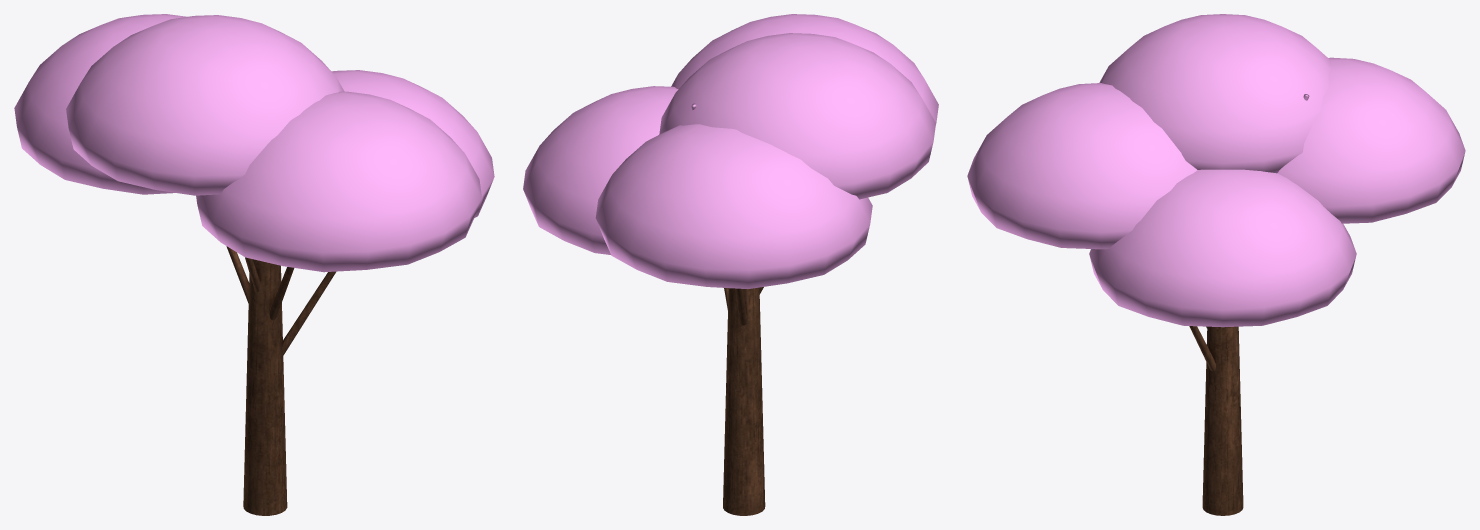
The model's file is basiccherry.glb.
The picture shows the model from 3 angles, left to right: view 1: azimuth 30°, elevation 25°; view 2: azimuth 150°, elevation 25°; view 3: azimuth 270°, elevation 25°; orthographic projection. The views are drawn at different scales.
Visible parts, largest first — view 1: g; view 2: g; view 3: g.
Boxes of the visible parts, x1,y1,x2,y2 form: g: [14, 14, 494, 515]; g: [523, 14, 938, 515]; g: [967, 14, 1465, 515].
Bounding box in the file's own units: 1.67 × 2 × 1.99.
Materials: 1 (1 with a texture image).
